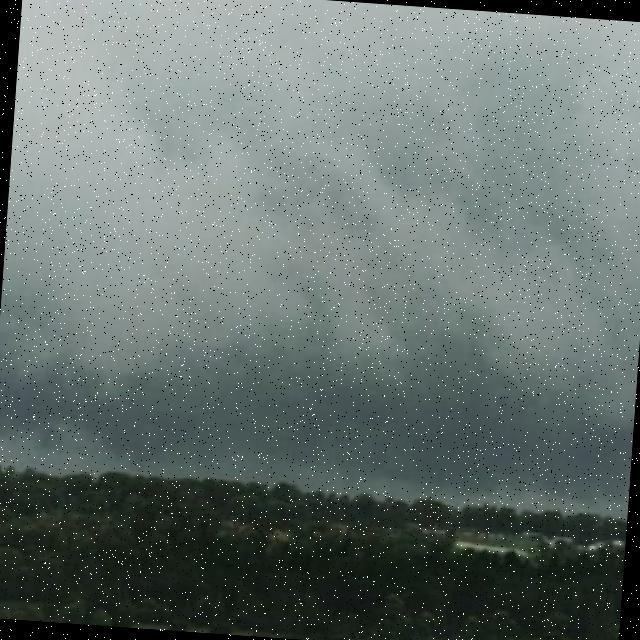Ns: (1, 1, 640, 479)
